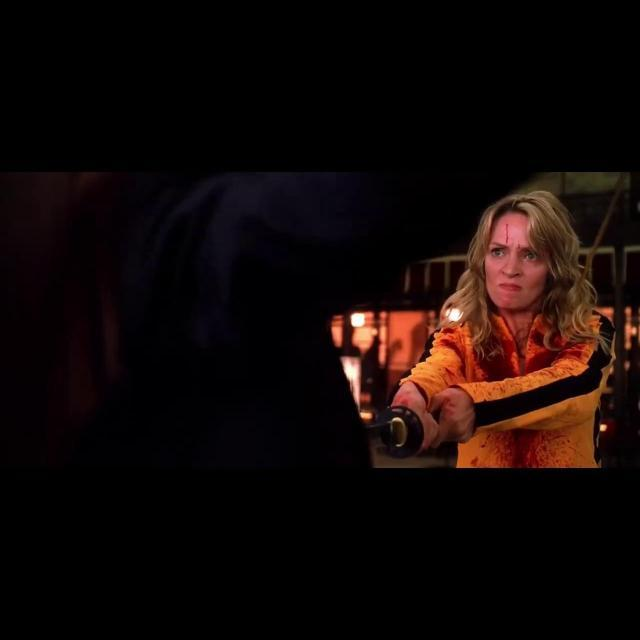blood: (433, 314, 606, 467), (440, 398, 457, 420), (502, 224, 511, 244), (515, 244, 523, 249)
